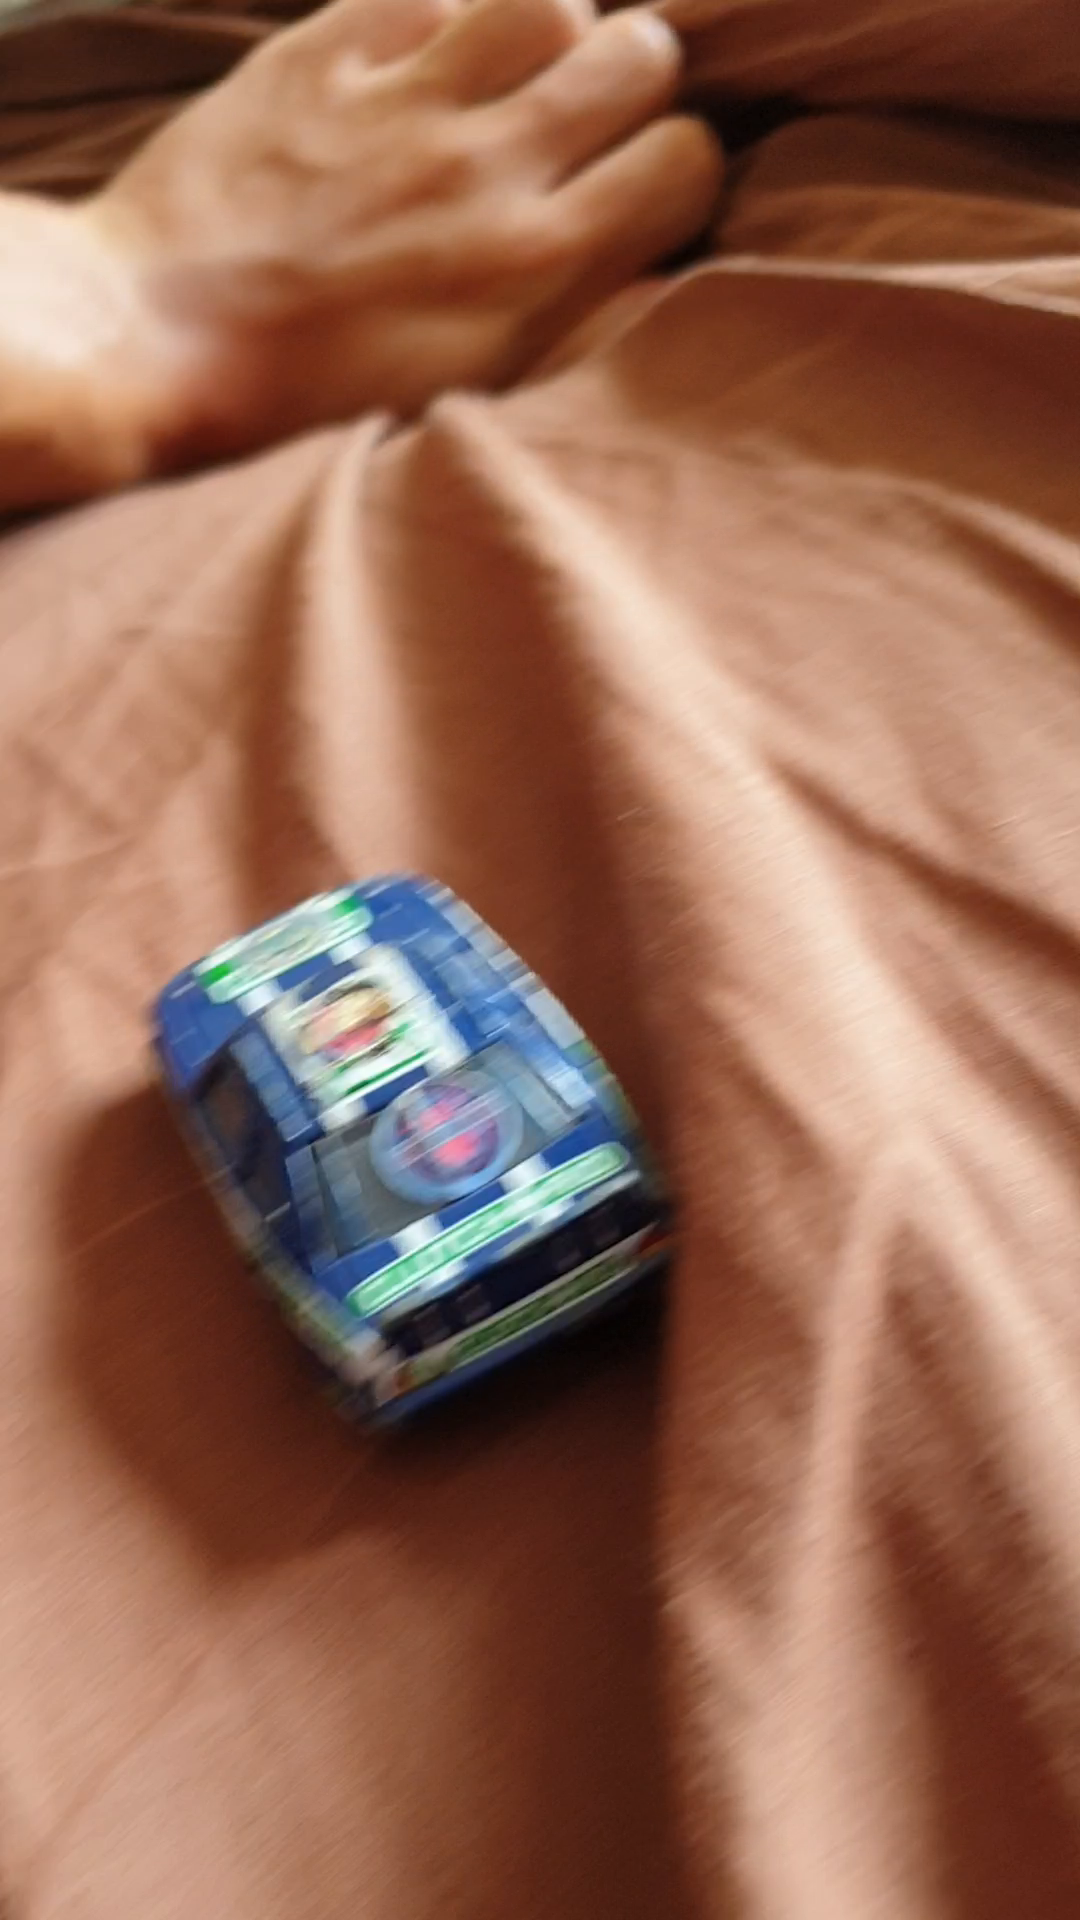cars: (142, 858, 669, 1445)
